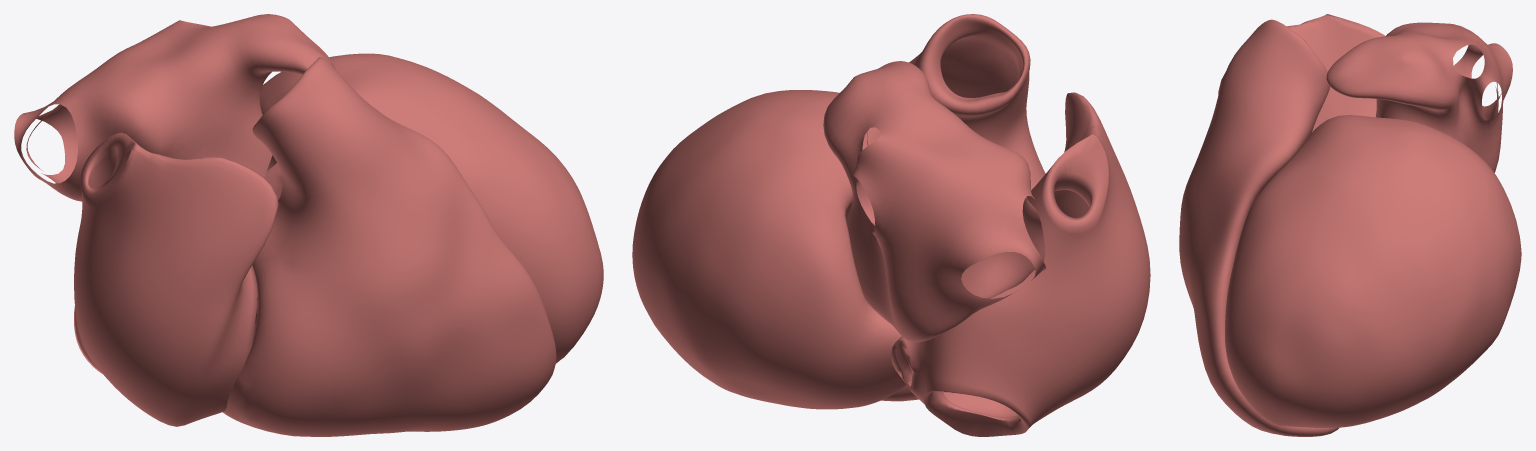
The model's file is VH_F_Heart_only.glb.
3 views of the same model, side by side, from view 1: azimuth 30°, elevation 25°; view 2: azimuth 150°, elevation 25°; view 3: azimuth 270°, elevation 25° (orthographic). The views are drawn at different scales.
Visible parts, largest first — view 1: VH_F_right_ventricle, VH_F_right_cardiac_atrium, VH_F_left_ventricle, VH_F_left_cardiac_atrium; view 2: VH_F_left_ventricle, VH_F_right_cardiac_atrium, VH_F_left_cardiac_atrium, VH_F_right_ventricle; view 3: VH_F_left_ventricle, VH_F_right_ventricle, VH_F_left_cardiac_atrium, VH_F_right_cardiac_atrium.
Part boxes in pixels (<box>): VH_F_right_ventricle: <box>222,57,556,436</box>; VH_F_right_cardiac_atrium: <box>74,132,278,426</box>; VH_F_left_ventricle: <box>257,53,603,363</box>; VH_F_left_cardiac_atrium: <box>14,14,335,201</box>; VH_F_left_ventricle: <box>632,90,906,409</box>; VH_F_right_cardiac_atrium: <box>890,92,1150,436</box>; VH_F_left_cardiac_atrium: <box>823,61,1046,342</box>; VH_F_right_ventricle: <box>881,14,1045,401</box>; VH_F_left_ventricle: <box>1225,115,1521,427</box>; VH_F_right_ventricle: <box>1179,19,1339,436</box>; VH_F_left_cardiac_atrium: <box>1326,22,1512,172</box>; VH_F_right_cardiac_atrium: <box>1218,14,1385,132</box>.
Size of the model in its own units: 0.1425 by 0.11 by 0.1015.
